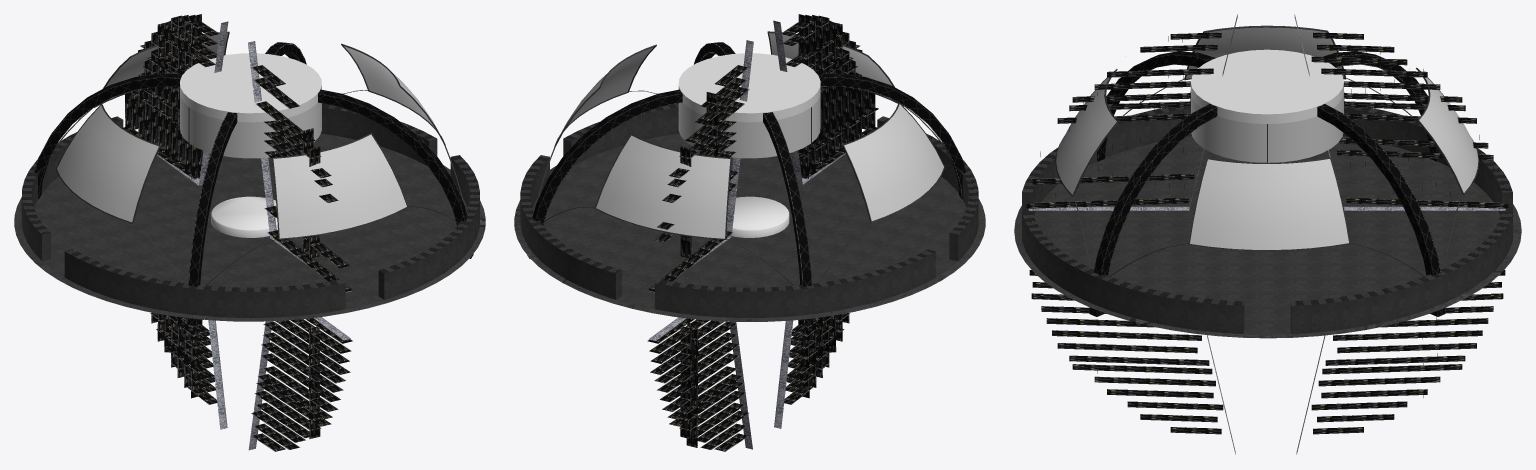
File: NewStage.fbx
3 renders of one model, left to right at view 1: azimuth 30°, elevation 25°; view 2: azimuth 150°, elevation 25°; view 3: azimuth 270°, elevation 25°, orthographic. The views are drawn at different scales.
Parts seen in each view (by area): view 1: Floor, pp, Object009, Cylinder001, Box006, Stage001, Line001, Stage002, Object007, Stage; view 2: Floor, pp, Object009, Cylinder001, Box006, Stage001, Line001, Stage002, Object007, Stage; view 3: Floor, pp, Cylinder001, Object009, Box006, Stage001, Stage002, Object007, Line001.
Part boxes in pixels (left/top/right/bottom): Floor: left=14, top=133, right=485, bottom=321; pp: left=123, top=14, right=352, bottom=451; Object009: left=57, top=33, right=436, bottom=238; Cylinder001: left=21, top=103, right=479, bottom=317; Box006: left=34, top=42, right=473, bottom=325; Stage001: left=180, top=53, right=321, bottom=122; Line001: left=157, top=21, right=351, bottom=450; Stage002: left=180, top=94, right=321, bottom=158; Object007: left=35, top=31, right=463, bottom=285; Stage: left=211, top=196, right=277, bottom=237; Floor: left=514, top=133, right=985, bottom=321; pp: left=647, top=14, right=878, bottom=451; Object009: left=557, top=33, right=943, bottom=238; Cylinder001: left=520, top=103, right=978, bottom=317; Box006: left=527, top=42, right=966, bottom=325; Stage001: left=678, top=53, right=820, bottom=122; Line001: left=649, top=20, right=845, bottom=449; Stage002: left=678, top=92, right=820, bottom=158; Object007: left=537, top=31, right=965, bottom=286; Stage: left=731, top=196, right=789, bottom=237; Floor: left=1014, top=136, right=1521, bottom=338; pp: left=1026, top=32, right=1508, bottom=434; Cylinder001: left=1022, top=107, right=1512, bottom=333; Object009: left=1056, top=27, right=1478, bottom=249; Box006: left=1089, top=51, right=1445, bottom=316; Stage001: left=1190, top=49, right=1343, bottom=123; Stage002: left=1191, top=92, right=1343, bottom=162; Object007: left=1055, top=25, right=1479, bottom=276; Line001: left=1028, top=14, right=1505, bottom=454.
Bounding box in the file's own units: 47.34 × 45.08 × 47.34.
